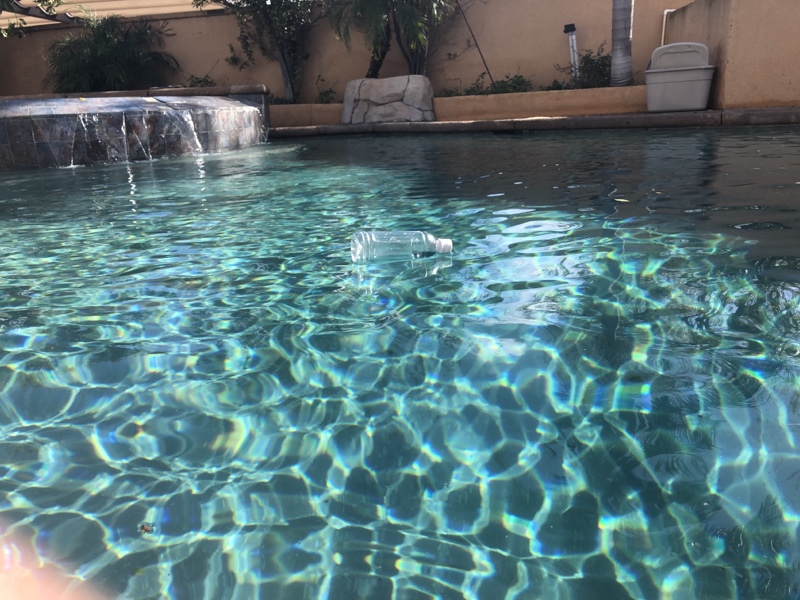Plastic Bottle: (347, 225, 456, 268)
